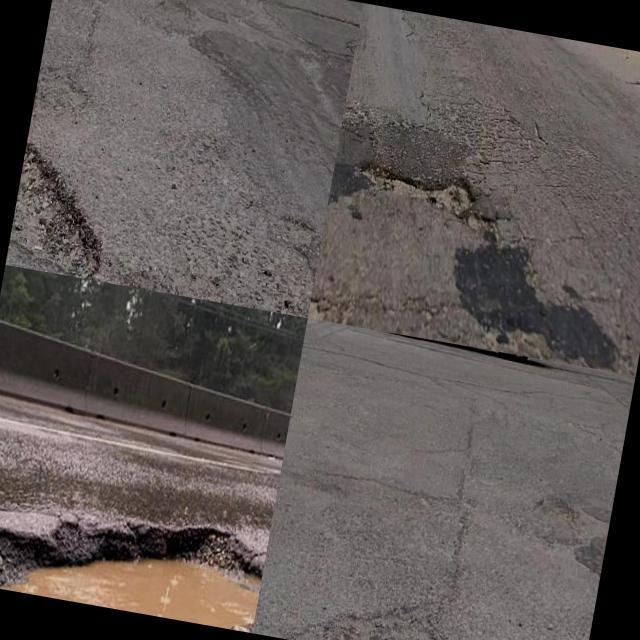Pothole: (0, 524, 261, 633), (9, 143, 103, 278), (353, 159, 478, 222)
